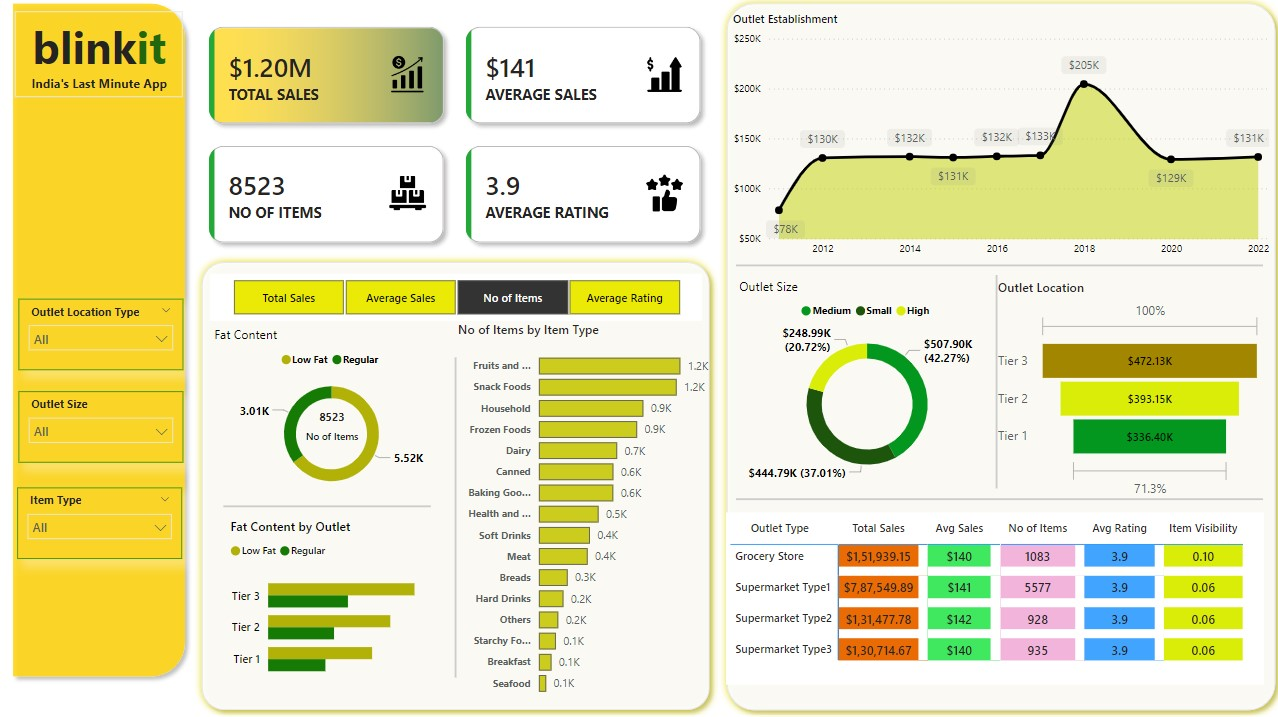

What the dashboard file says about the page in this screenshot:
{"tool":"powerbi","page":{"name":"Page 1","canvas":[1400,800],"ordinal":0},"visuals":[{"type":"shape","box":[10,0,205,750],"z":0},{"type":"textbox","box":[19.9,18.2,183.8,92.7],"z":1000},{"type":"cardVisual","fields":{"Data":["BlinkIT Grocery Data.Total Sales","BlinkIT Grocery Data.Average Sales","BlinkIT Grocery Data.No of Items","BlinkIT Grocery Data.Average Rating"]},"box":[215.3,18.2,569.7,270],"z":2000},{"type":"shape","box":[215.3,281.5,570,505],"z":3000},{"type":"slicer","fields":{"Values":["Metrics.Metrics"]},"box":[231.9,303.1,534.9,51.3],"z":4000},{"type":"card","fields":{"Values":["BlinkIT Grocery Data.No of Items"]},"box":[321.3,440.5,89.4,54.7],"z":5000},{"type":"clusteredBarChart","title":"Fat Content by Outlet","fields":{"Y":["BlinkIT Grocery Data.No of Items"],"Series":["BlinkIT Grocery Data.Item Fat Content"],"Category":["BlinkIT Grocery Data.Outlet Location Type"]},"box":[250.1,568.1,250.1,187.1],"z":6000},{"type":"shape","box":[246.8,551.5,225.2,8.3],"z":7000},{"type":"shape","box":[460.4,394.2,77.8,347.8],"z":8000},{"type":"barChart","fields":{"Y":["BlinkIT Grocery Data.No of Items"],"Category":["BlinkIT Grocery Data.Item Type"]},"box":[496.8,354.4,288.2,417.4],"z":9000},{"type":"shape","box":[785,0,614.4,786.7],"z":10000},{"type":"lineChart","title":"Outlet Establishment","fields":{"Y":["BlinkIT Grocery Data.Total Sales"],"Category":["BlinkIT Grocery Data.Outlet Establishment Year"]},"box":[796.6,18.2,592.9,275],"z":11000},{"type":"shape","box":[804.9,265,573,58],"z":12000},{"type":"donutChart","title":"Fat Content","fields":{"Y":["BlinkIT Grocery Data.No of Items"],"Category":["BlinkIT Grocery Data.Item Fat Content"]},"box":[231.9,359.4,265,188.8],"z":13000},{"type":"donutChart","title":"Outlet Size","fields":{"Y":["BlinkIT Grocery Data.Total Sales"],"Category":["BlinkIT Grocery Data.Outlet Size"]},"box":[803.2,306.4,288.2,230.2],"z":14000},{"type":"shape","box":[1064.9,304.7,44.7,231.9],"z":15000},{"type":"funnel","title":"Outlet Location","fields":{"Y":["BlinkIT Grocery Data.Total Sales"],"Category":["BlinkIT Grocery Data.Outlet Location Type"]},"box":[1084.8,308,296.5,243.5],"z":16000},{"type":"shape","box":[804.9,518.4,573,58],"z":17000},{"type":"pivotTable","fields":{"Rows":["BlinkIT Grocery Data.Outlet Type"],"Values":["BlinkIT Grocery Data.Total Sales","BlinkIT Grocery Data.Average Sales","BlinkIT Grocery Data.No of Items","BlinkIT Grocery Data.Average Rating","Avg(BlinkIT Grocery Data.Item Visibility)"]},"box":[793.3,563.1,584.6,187.1],"z":18000},{"type":"slicer","fields":{"Values":["BlinkIT Grocery Data.Outlet Location Type"]},"box":[24.8,329.6,178.9,77.8],"z":19000},{"type":"slicer","fields":{"Values":["BlinkIT Grocery Data.Outlet Size"]},"box":[24.8,430.6,178.9,77.8],"z":20000},{"type":"slicer","fields":{"Values":["BlinkIT Grocery Data.Item Type"]},"box":[23.2,534.9,178.9,77.8],"z":21000}]}

Visuals, with their boxes in screenshot pixels (x1, y1, x2, y2), scaled from the page's 1400x800 canvas onto the 1278x717 screenshot:
shape: <bbox>9, 0, 196, 672</bbox>
textbox: <bbox>18, 16, 186, 99</bbox>
cardVisual - BlinkIT Grocery Data.Total Sales x BlinkIT Grocery Data.Average Sales: <bbox>197, 16, 717, 258</bbox>
shape: <bbox>197, 252, 717, 705</bbox>
slicer - Metrics.Metrics: <bbox>212, 272, 700, 318</bbox>
card - BlinkIT Grocery Data.No of Items: <bbox>293, 395, 375, 444</bbox>
"Fat Content by Outlet" clusteredBarChart: <bbox>228, 509, 457, 677</bbox>
shape: <bbox>225, 494, 431, 502</bbox>
shape: <bbox>420, 353, 491, 665</bbox>
barChart - BlinkIT Grocery Data.No of Items x BlinkIT Grocery Data.Item Type: <bbox>454, 318, 717, 692</bbox>
shape: <bbox>717, 0, 1277, 705</bbox>
"Outlet Establishment" lineChart: <bbox>727, 16, 1268, 263</bbox>
shape: <bbox>735, 238, 1258, 289</bbox>
"Fat Content" donutChart: <bbox>212, 322, 454, 491</bbox>
"Outlet Size" donutChart: <bbox>733, 275, 996, 481</bbox>
shape: <bbox>972, 273, 1013, 481</bbox>
"Outlet Location" funnel: <bbox>990, 276, 1261, 494</bbox>
shape: <bbox>735, 465, 1258, 517</bbox>
pivotTable - BlinkIT Grocery Data.Outlet Type x BlinkIT Grocery Data.Total Sales: <bbox>724, 505, 1258, 672</bbox>
slicer - BlinkIT Grocery Data.Outlet Location Type: <bbox>23, 295, 186, 365</bbox>
slicer - BlinkIT Grocery Data.Outlet Size: <bbox>23, 386, 186, 456</bbox>
slicer - BlinkIT Grocery Data.Item Type: <bbox>21, 479, 184, 549</bbox>
